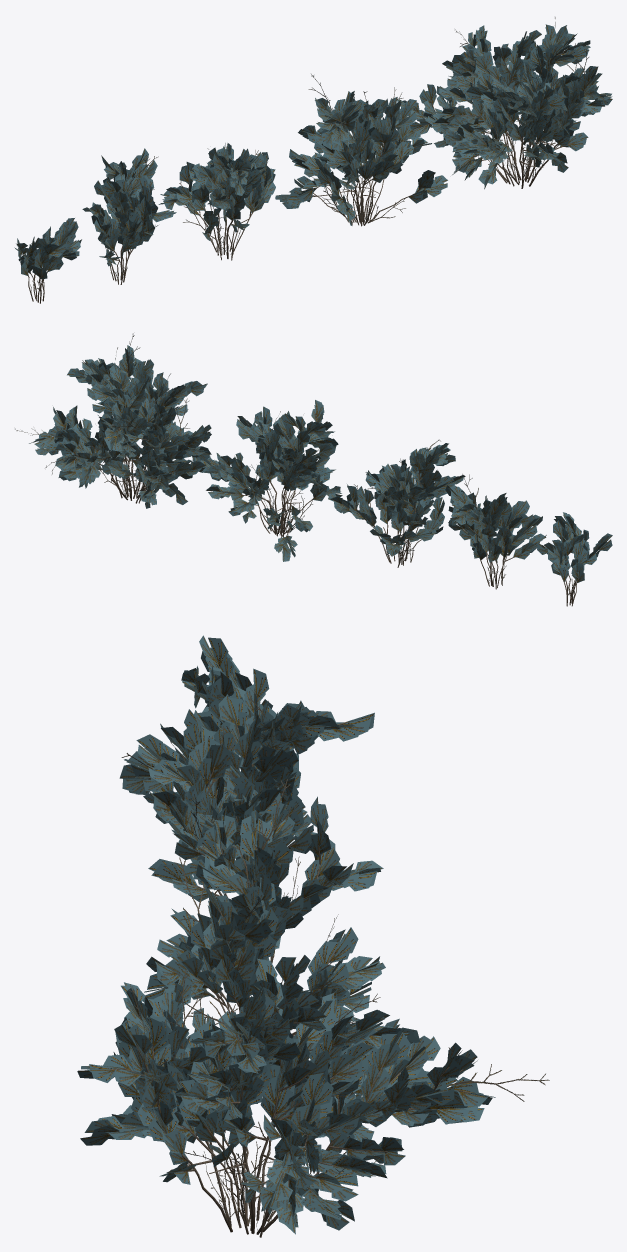
File: tree-02.glb
The picture shows the model from 3 angles, top to bottom: view 1: azimuth 30°, elevation 25°; view 2: azimuth 150°, elevation 25°; view 3: azimuth 270°, elevation 25°; orthographic projection. The views are drawn at different scales.
Visible parts, largest first — view 1: wild_rooibos_bush_a, wild_rooibos_bush_b, wild_rooibos_bush_c, wild_rooibos_bush_d, wild_rooibos_bush_e; view 2: wild_rooibos_bush_a, wild_rooibos_bush_b, wild_rooibos_bush_c, wild_rooibos_bush_d, wild_rooibos_bush_e; view 3: wild_rooibos_bush_a, wild_rooibos_bush_b, wild_rooibos_bush_c, wild_rooibos_bush_d, wild_rooibos_bush_e.
Boxes of the visible parts, <box> form: wild_rooibos_bush_a: <box>397,17,612,189</box>; wild_rooibos_bush_b: <box>275,74,447,226</box>; wild_rooibos_bush_c: <box>158,143,275,260</box>; wild_rooibos_bush_d: <box>82,148,176,284</box>; wild_rooibos_bush_e: <box>14,218,81,303</box>; wild_rooibos_bush_a: <box>15,333,218,508</box>; wild_rooibos_bush_b: <box>201,400,342,561</box>; wild_rooibos_bush_c: <box>328,439,465,567</box>; wild_rooibos_bush_d: <box>445,474,546,589</box>; wild_rooibos_bush_e: <box>537,512,612,606</box>; wild_rooibos_bush_a: <box>77,958,549,1237</box>; wild_rooibos_bush_b: <box>143,779,385,1038</box>; wild_rooibos_bush_c: <box>119,719,383,963</box>; wild_rooibos_bush_d: <box>160,668,374,811</box>; wild_rooibos_bush_e: <box>181,635,272,755</box>.
Bounding box in the file's own units: 2.28 × 0.5413 × 0.8434.
Materials: 3 (3 with a texture image).
